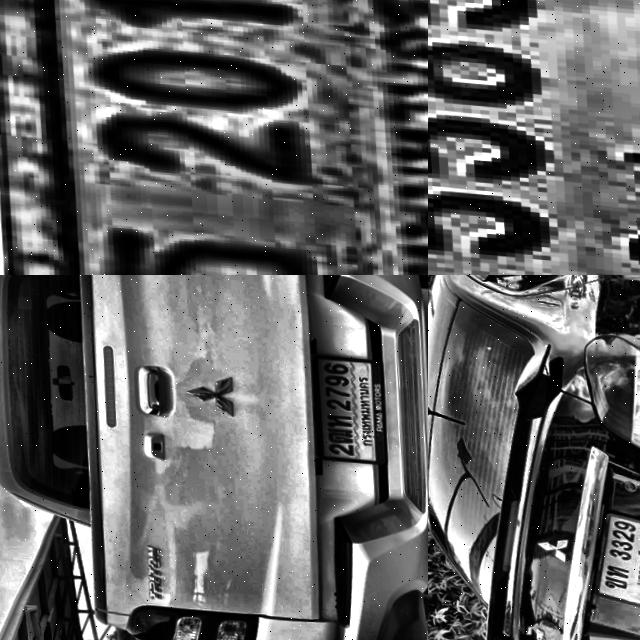license-plate: (0, 0, 428, 275), (428, 0, 640, 275), (303, 346, 383, 458), (569, 499, 640, 607)
